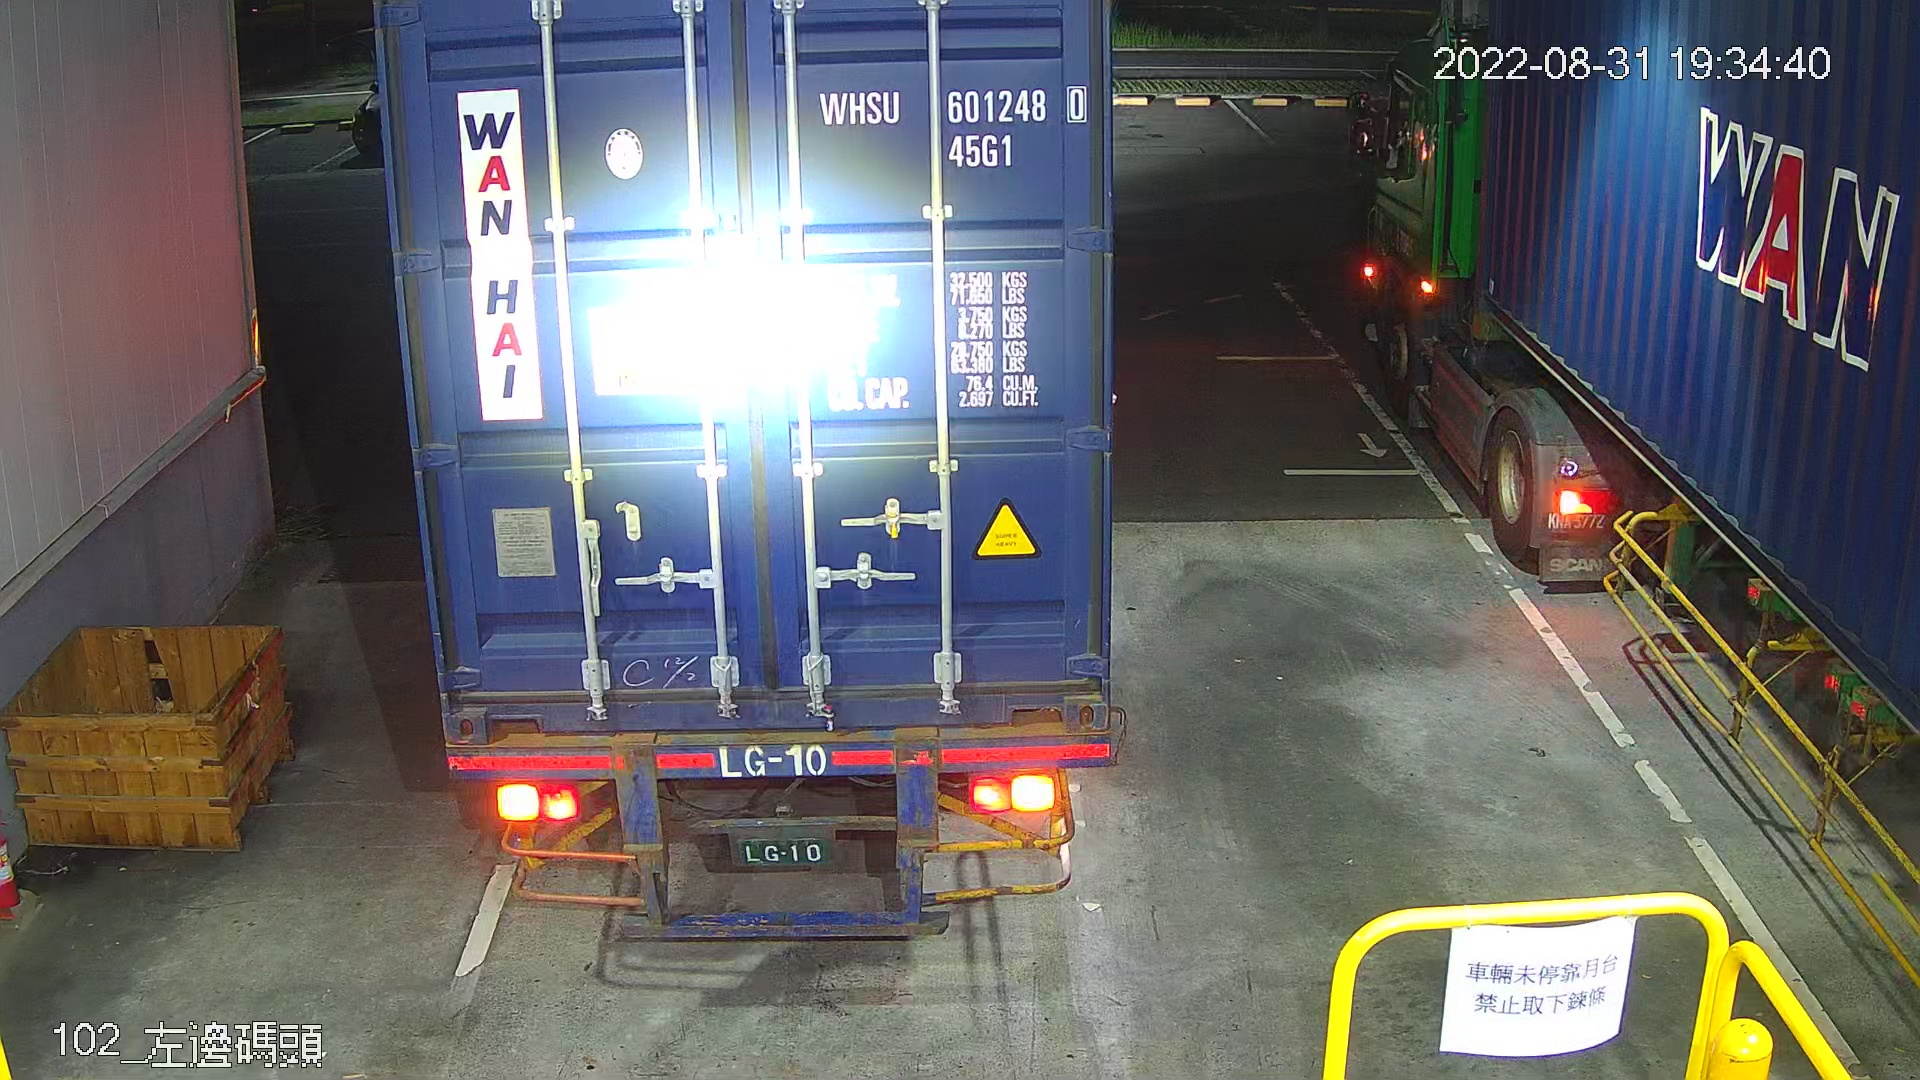container: (812, 73, 1098, 177)
